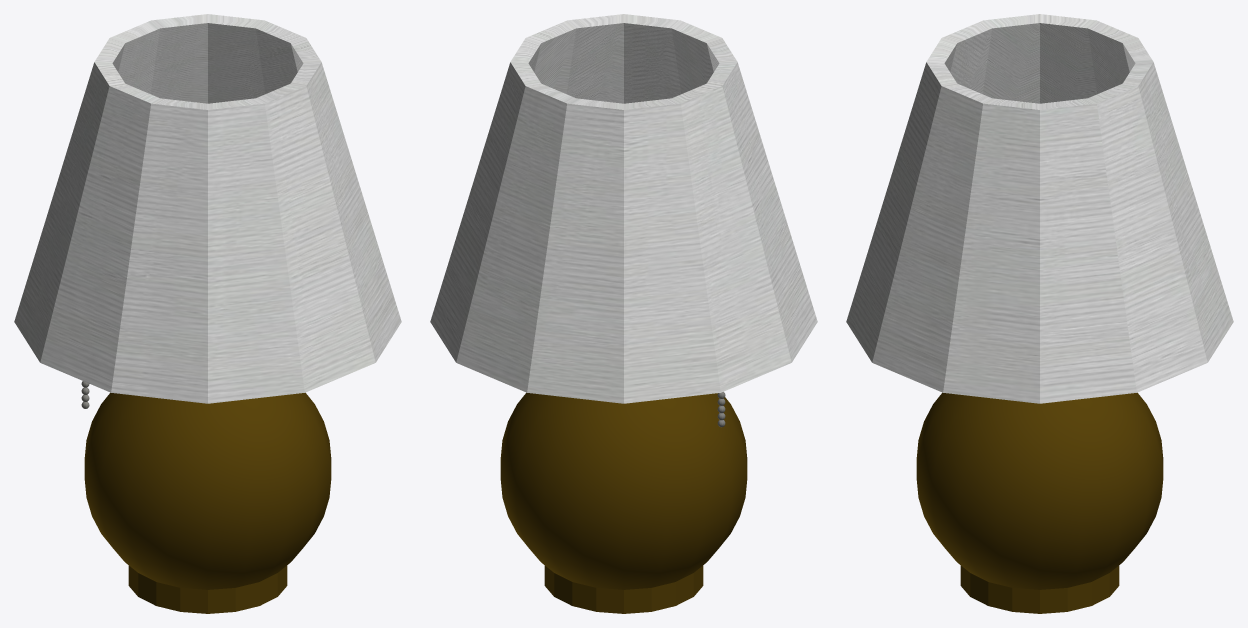
Rendered from lamp_surfaced.fbx.
3 views of the same model, side by side, from view 1: azimuth 30°, elevation 25°; view 2: azimuth 150°, elevation 25°; view 3: azimuth 270°, elevation 25° (orthographic).
Parts seen in each view (by area): view 1: shade, body; view 2: shade, body; view 3: shade, body.
Boxes of the visible parts, box(x1,y1,x2,y2) form: shade: box(14, 14, 401, 403); body: box(84, 392, 331, 613); shade: box(430, 14, 817, 403); body: box(500, 392, 747, 613); shade: box(846, 14, 1233, 403); body: box(916, 392, 1163, 613).
Bounding box in the file's own units: 9.92 × 14.63 × 9.92.
4 materials, 2 textured.
